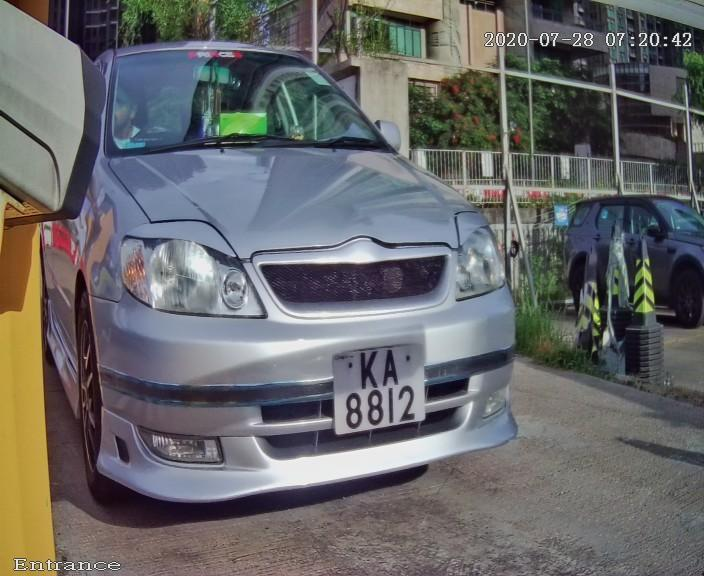privatecar: (16, 13, 604, 561)
